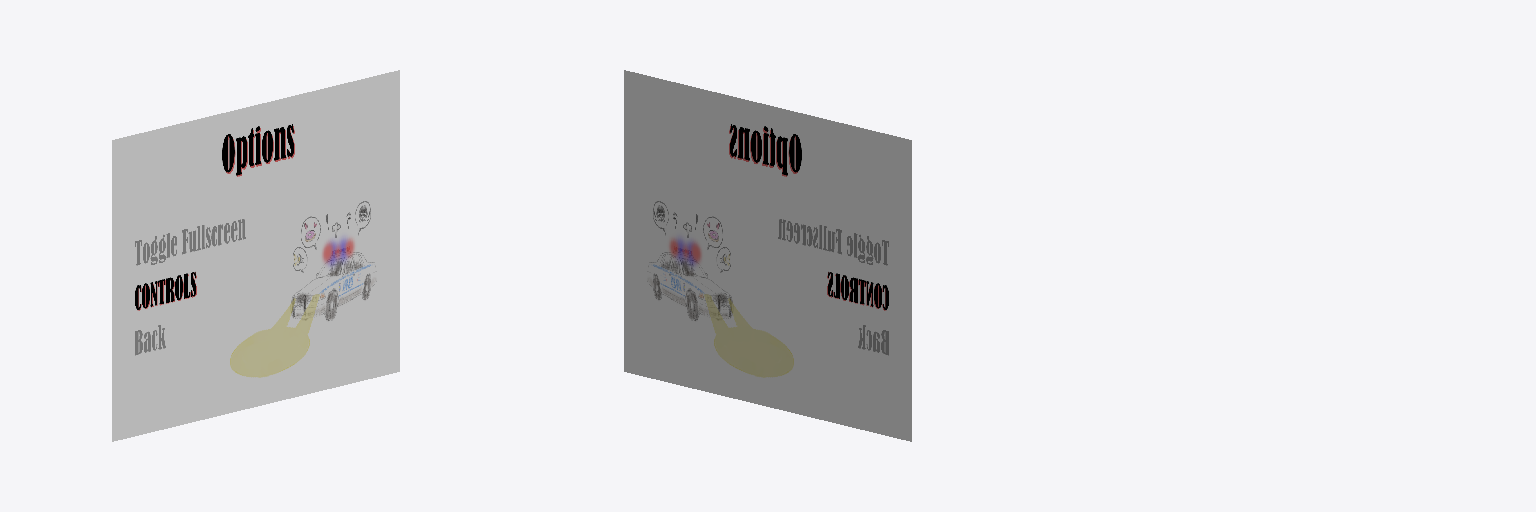
The picture shows the model from 3 angles: view 1: azimuth 30°, elevation 25°; view 2: azimuth 150°, elevation 25°; view 3: azimuth 270°, elevation 25°; orthographic projection.
Visible parts, largest first — view 1: Plane; view 2: Plane; view 3: none.
Boxes of the visible parts, x1=… form: Plane: x1=112, y1=70, x2=399, y2=441; Plane: x1=624, y1=70, x2=911, y2=441.
Size of the model in its own units: 2 by 2 by 0.
Materials: 1 (1 with a texture image).